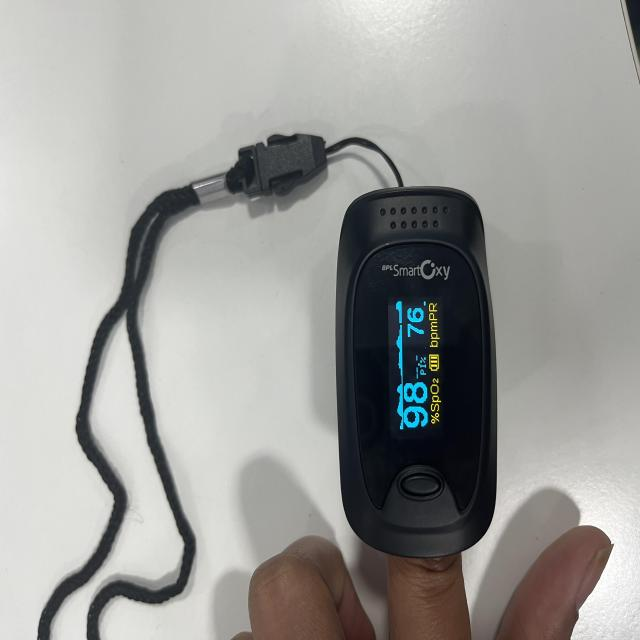spo2: (337, 187, 498, 563)
